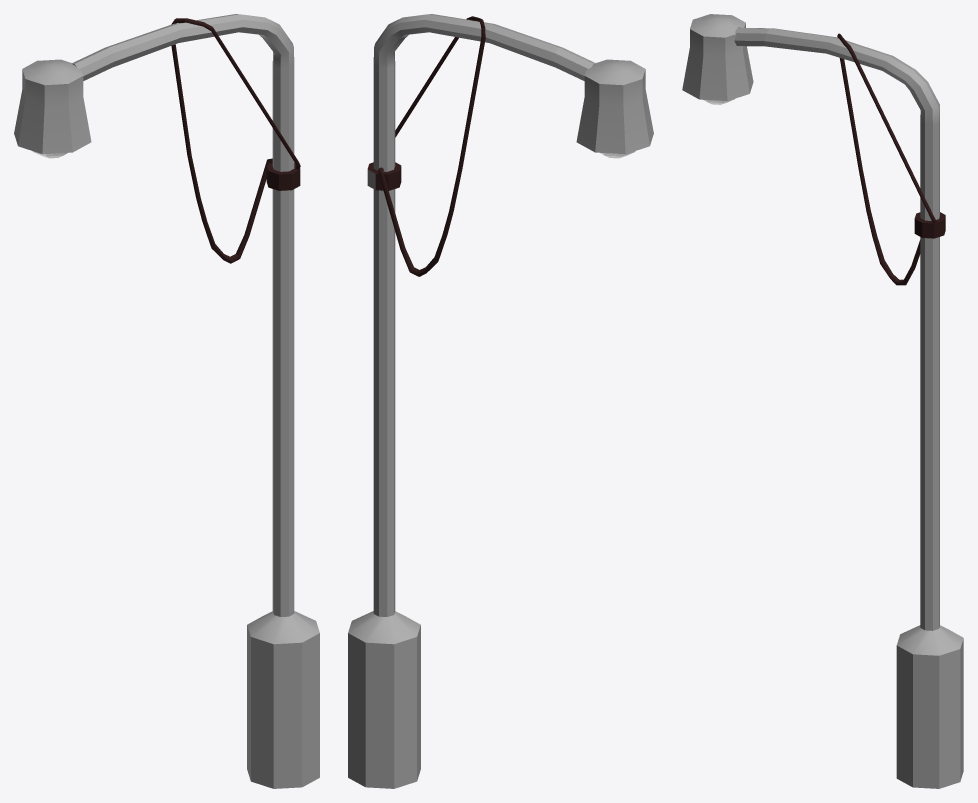
Rendered from Lampadaire.fbx.
3 views of the same model, side by side, from view 1: azimuth 30°, elevation 25°; view 2: azimuth 150°, elevation 25°; view 3: azimuth 330°, elevation 25° (orthographic). The views are drawn at different scales.
Visible parts, largest first — view 1: pCylinder1, pCylinder2, pCylinder3; view 2: pCylinder1, pCylinder2, pCylinder3; view 3: pCylinder1, pCylinder2, pCylinder3.
Boxes of the visible parts, x1,y1,x2,y2 form: pCylinder1: (72, 14, 319, 788); pCylinder2: (14, 59, 91, 154); pCylinder3: (171, 18, 300, 263); pCylinder1: (348, 14, 595, 788); pCylinder2: (576, 59, 653, 154); pCylinder3: (378, 16, 485, 276); pCylinder1: (734, 27, 963, 788); pCylinder2: (682, 14, 753, 101); pCylinder3: (837, 33, 936, 285).
Bounding box in the file's own units: 10.92 × 27.27 × 2.55.
